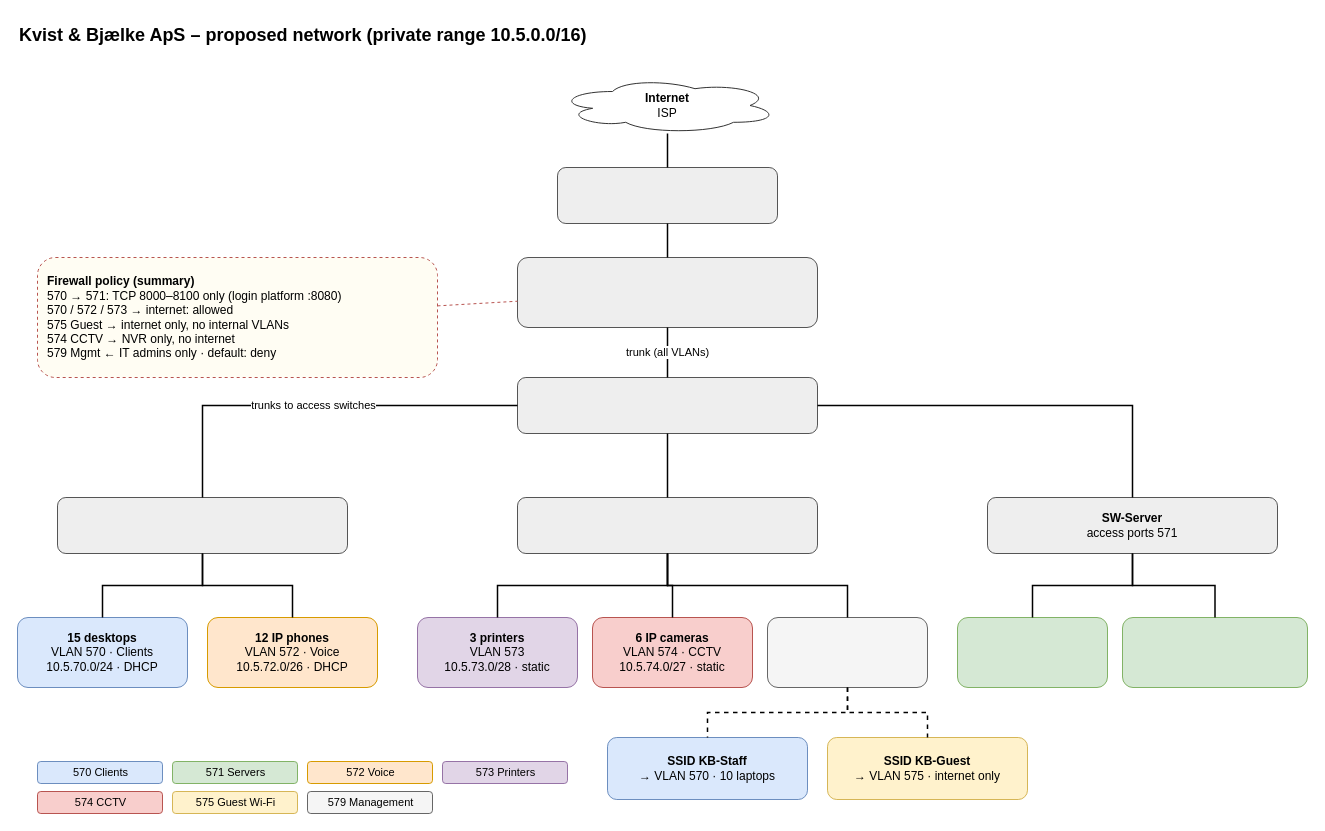
The diagram is 1325 pixels wide and 831 high, and some of its shapes have lost their labels. The shapes that lost their labels are listed below. From the top down, each one's box as (x1, y1, x2, y2) in pixels, then its label:
(556, 166, 778, 224): Edge router WAN uplink · NAT
(516, 256, 818, 328): Firewall (L3 gateway) inter-VLAN routing · rules · DHCP gateways 10.5.7X.1
(516, 376, 818, 434): Core switch 802.1Q trunks · mgmt VLAN 579
(56, 496, 348, 554): SW-Office (PoE) access ports 570 / 572
(516, 496, 818, 554): SW-Infra (PoE) access ports 573 / 574 · AP trunks
(766, 616, 928, 688): 4 access points mgmt VLAN 579 trunk 570 + 575
(956, 616, 1108, 688): Servers 1–2 VLAN 571 · Servers internal systems
(1122, 616, 1308, 688): Ubuntu Server VM Docker: login platform 10.5.71.x : 8080
